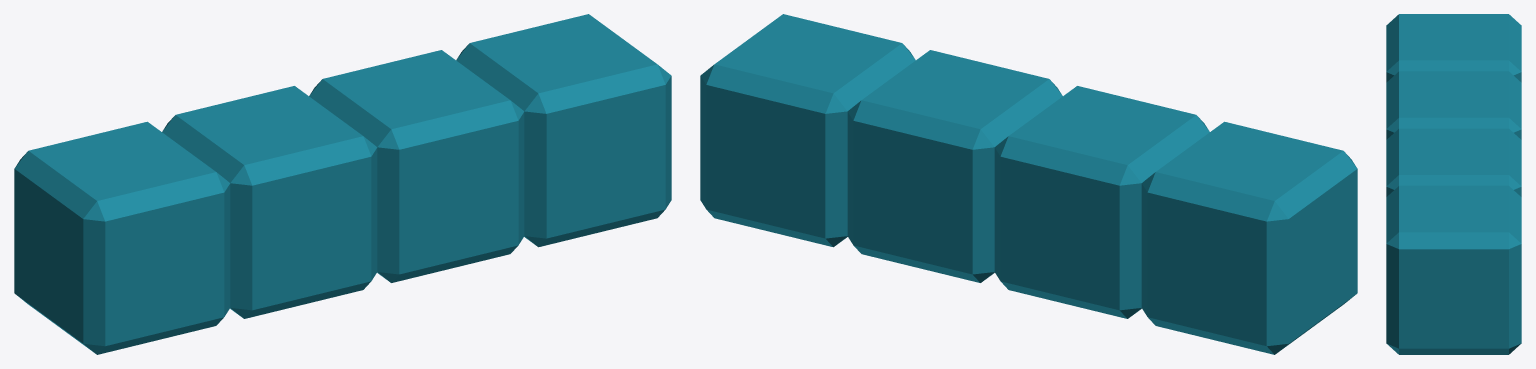
Rendered from hero.fbx.
3 renders of one model, left to right at view 1: azimuth 30°, elevation 25°; view 2: azimuth 150°, elevation 25°; view 3: azimuth 270°, elevation 25°, orthographic. The views are drawn at different scales.
Visible parts, largest first — view 1: line; view 2: line; view 3: line.
Boxes of the visible parts, <box> form: line: <box>14,14,671,354</box>; line: <box>700,14,1357,354</box>; line: <box>1386,14,1521,354</box>.
Bounding box in the file's own units: 400 × 100 × 100.
